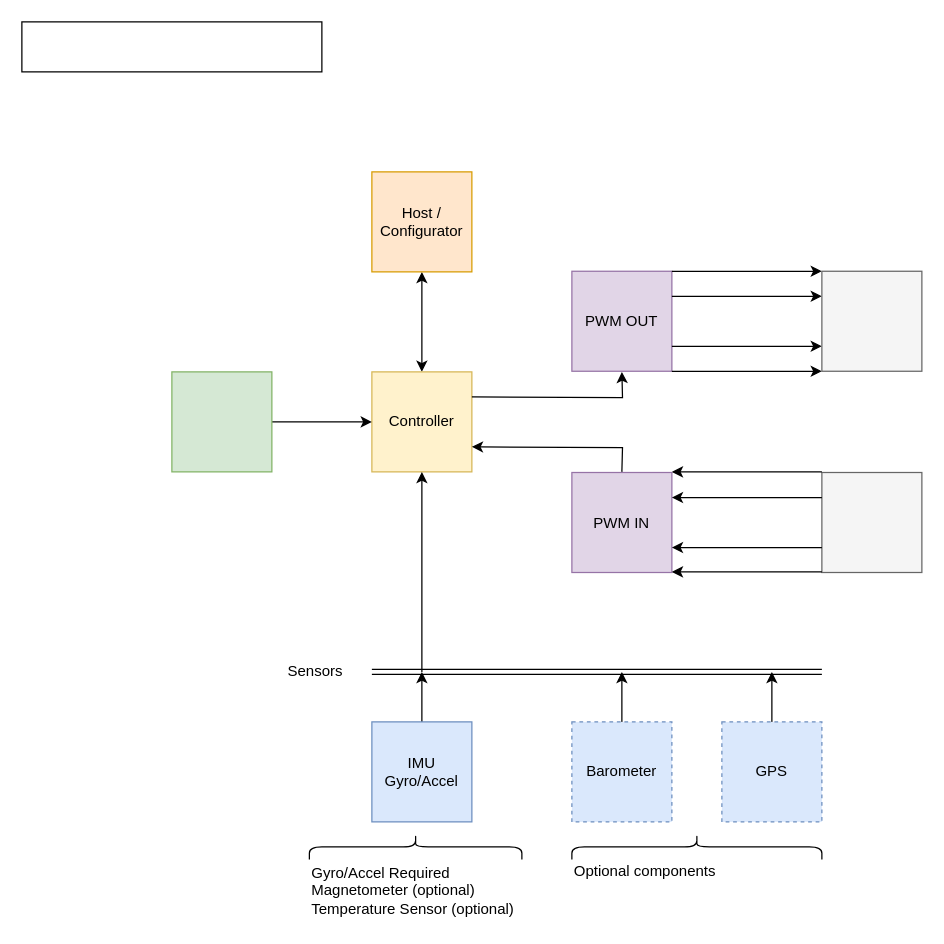
Some shapes in this 944 by 944 pixel diagram are drawn without their labels. Each missing label, with the box of its shape:
ICARUS HIGH LEVEL ARCHITECTURE: (21, 21, 322, 72)
Motors: (821, 270, 922, 371)
RC Input: (171, 371, 272, 472)
Signals: (821, 471, 922, 572)
